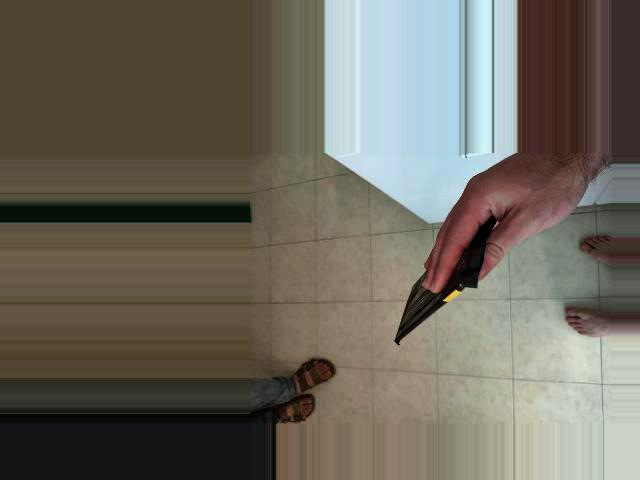chocolate: (327, 296, 469, 412)
